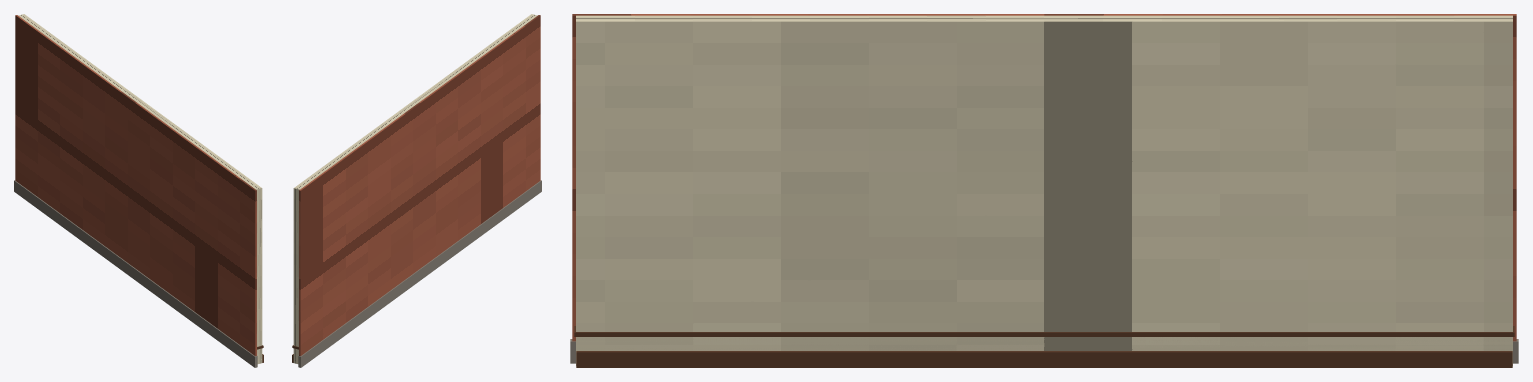
The model's file is wing_w.glb.
The picture shows the model from 3 angles, left to right: view 1: azimuth 30°, elevation 25°; view 2: azimuth 150°, elevation 25°; view 3: azimuth 270°, elevation 25°; orthographic projection. The views are drawn at different scales.
Parts seen in each view (by area): view 1: Box3, Box4, Box1; view 2: Box3, Box4, Box1; view 3: Box1, Box2, Box6, Box3, Box5.
Part boxes in pixels (box(x1,y1,x2,y2)): Box3: box(15, 15, 256, 355); Box4: box(14, 180, 257, 367); Box1: box(18, 14, 262, 363); Box3: box(299, 15, 540, 355); Box4: box(298, 180, 541, 367); Box1: box(293, 14, 537, 363); Box1: box(576, 15, 1512, 365); Box2: box(576, 351, 1512, 367); Box6: box(574, 326, 1514, 336); Box3: box(572, 14, 1516, 341); Box5: box(576, 337, 1512, 350).
Size of the model in its own units: 0.25 by 4.04 by 9.97.
Materials: 4 (2 with a texture image).
